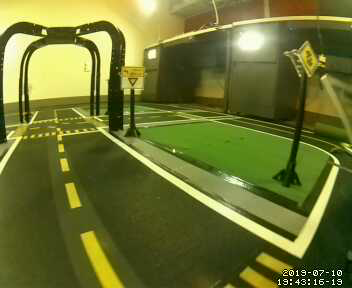Turn Yield: (122, 67, 144, 90)
